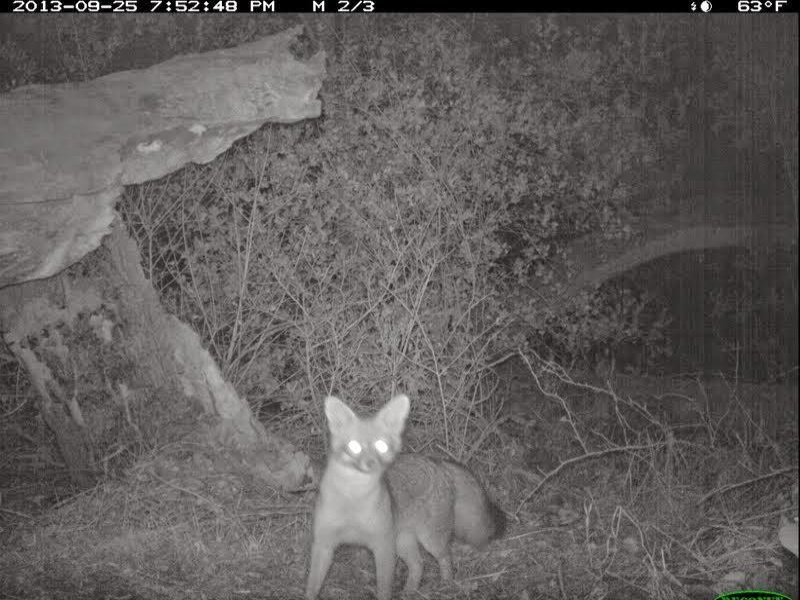fox: (296, 394, 508, 600)
